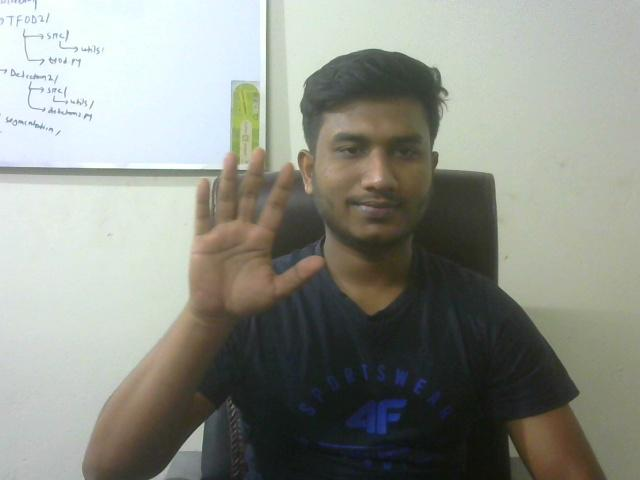Hello: (163, 137, 335, 331)
